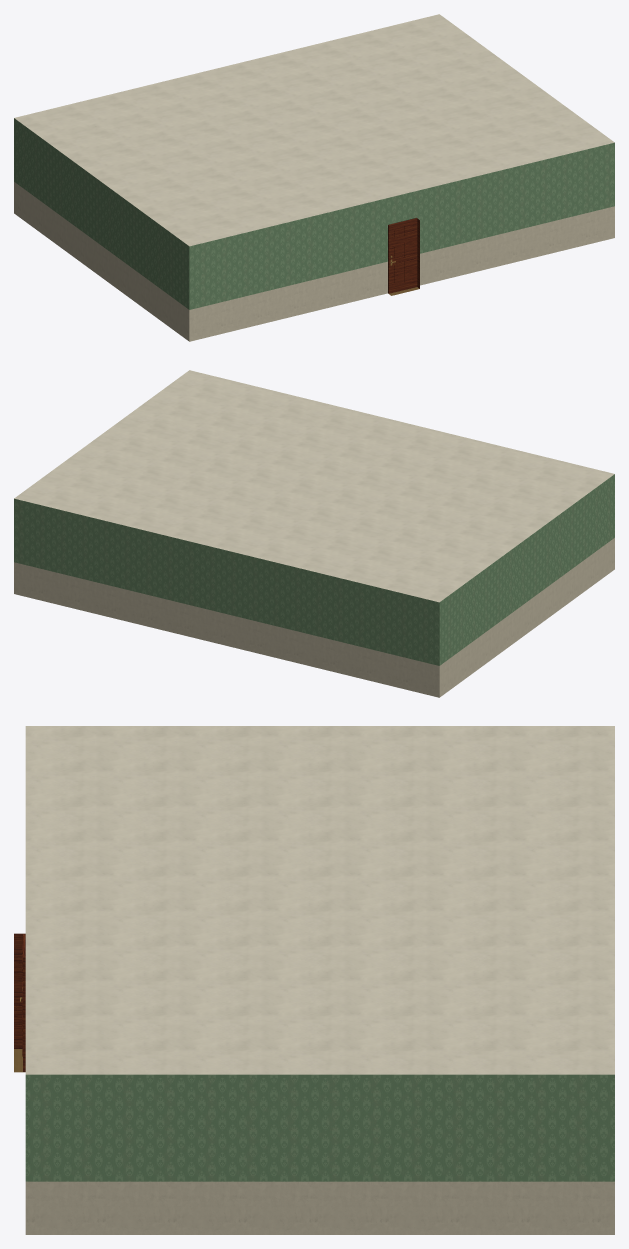
File: reception.glb
3 views of the same model, one above another, from view 1: azimuth 30°, elevation 25°; view 2: azimuth 150°, elevation 25°; view 3: azimuth 270°, elevation 25° (orthographic). The views are drawn at different scales.
Visible parts, largest first — view 1: Ceiling_Hall.001, Wall_Hall.001, Wainscot.001, DoorLeaf_floor_2; view 2: Ceiling_Hall.001, Wall_Hall.001, Wainscot.001; view 3: Ceiling_Hall.001, Wall_Hall.001, Wainscot.001, Door_Jamb.001.
Boxes of the visible parts, x1,y1,x2,y2 form: Ceiling_Hall.001: (14, 14, 614, 246); Wall_Hall.001: (14, 118, 614, 309); Wainscot.001: (14, 182, 614, 341); DoorLeaf_floor_2: (388, 218, 417, 293); Ceiling_Hall.001: (14, 370, 614, 602); Wall_Hall.001: (14, 474, 614, 665); Wainscot.001: (14, 538, 614, 697); Ceiling_Hall.001: (25, 726, 614, 1074); Wall_Hall.001: (25, 1074, 614, 1181); Wainscot.001: (25, 1181, 614, 1234); Door_Jamb.001: (14, 933, 25, 1048).
Size of the model in its own units: 14 by 3 by 10.2.
28 materials, 21 textured.
